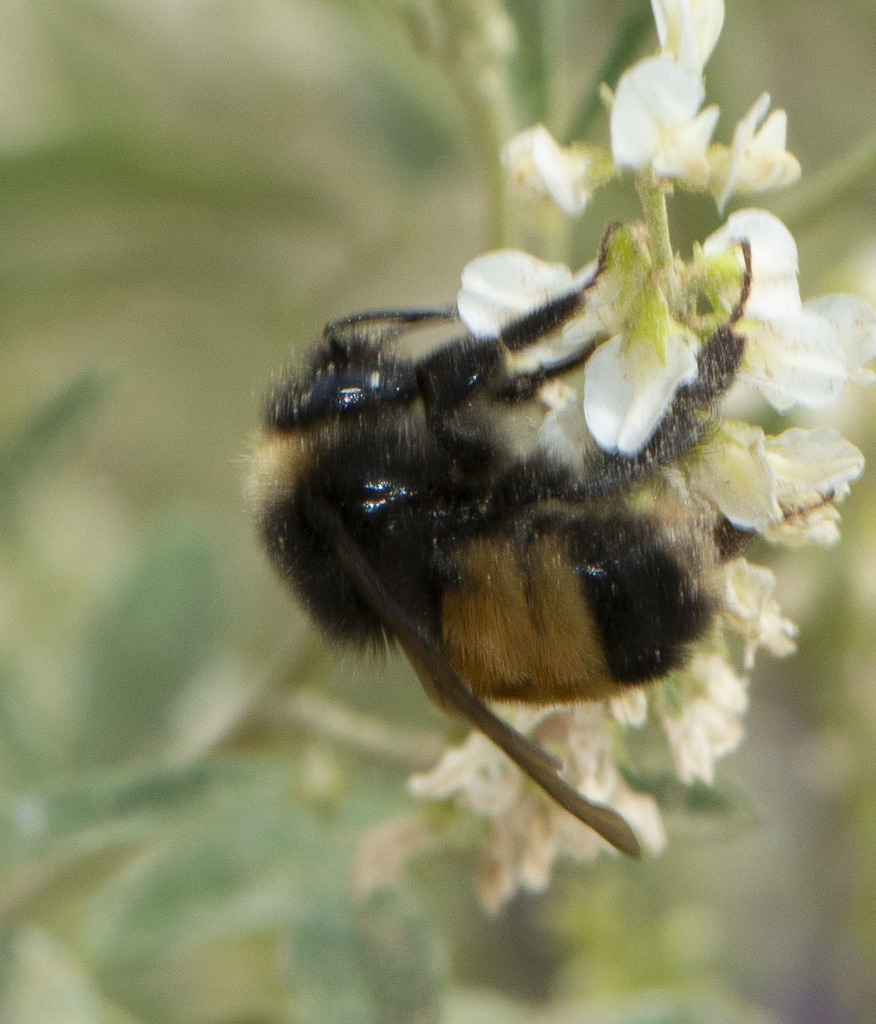bumblebee: (242, 219, 754, 860)
